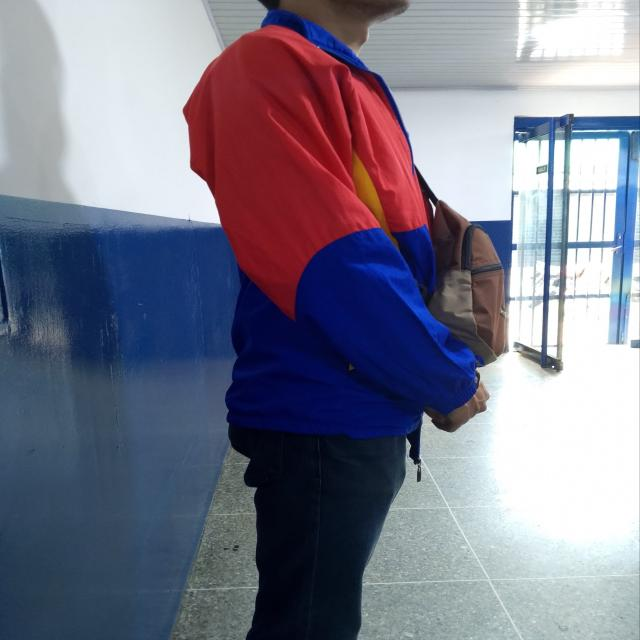chaqueta_unefa: (181, 8, 483, 442)
pantalon_oscuro: (230, 431, 408, 639)
